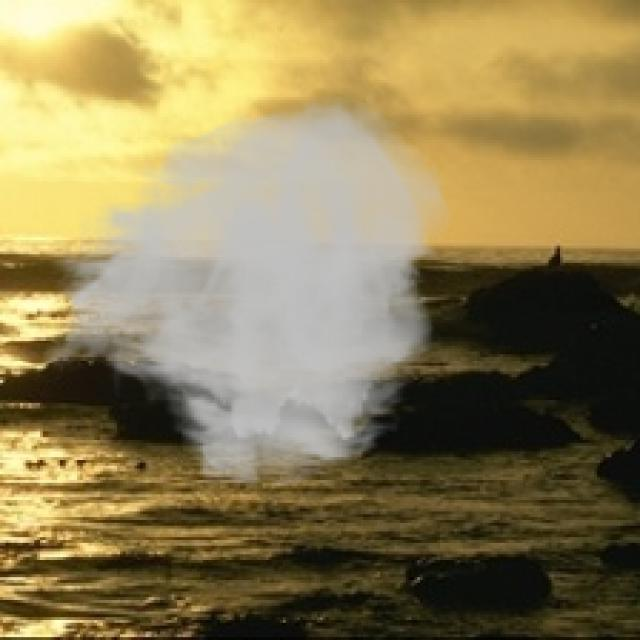Smoke: (39, 94, 454, 492)
